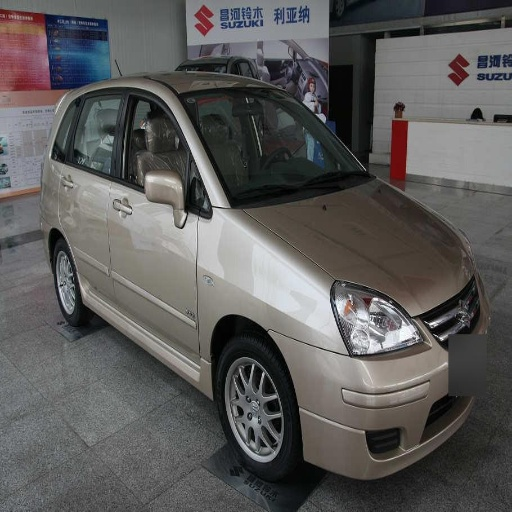front_bumper: (279, 299, 471, 478)
front_right_door: (111, 88, 210, 364)
front_right_light: (313, 281, 423, 357)
